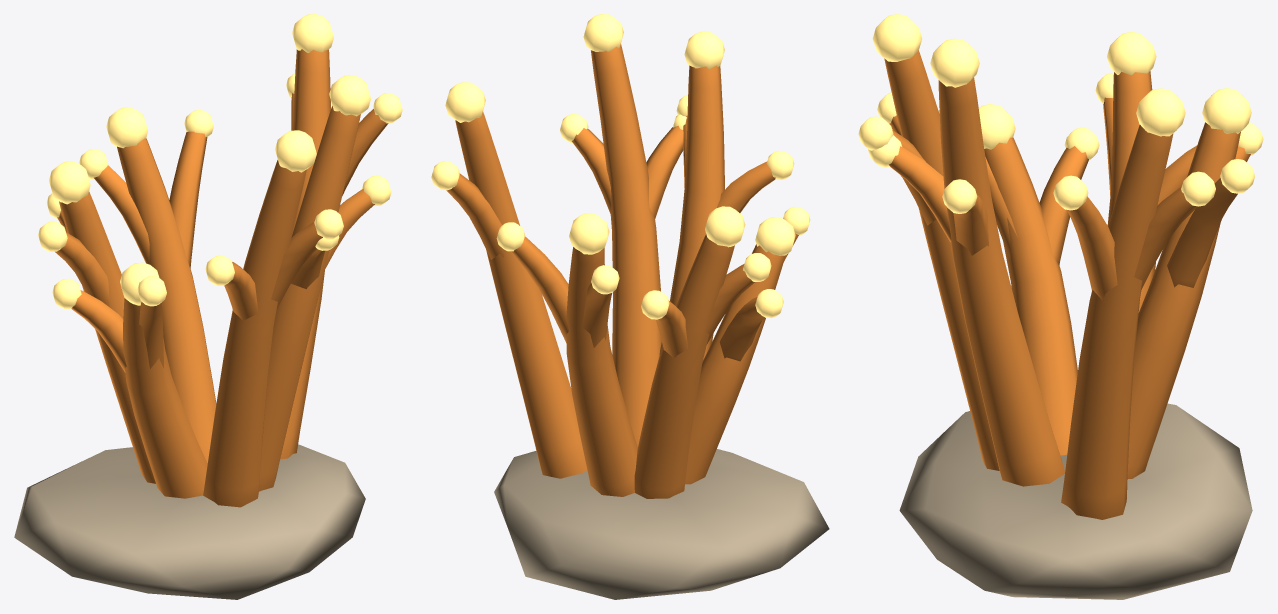
The model's file is coral2.glb.
3 views of the same model, side by side, from view 1: azimuth 30°, elevation 25°; view 2: azimuth 150°, elevation 25°; view 3: azimuth 270°, elevation 25° (orthographic). The views are drawn at different scales.
Visible parts, largest first — view 1: Coral; view 2: Coral; view 3: Coral.
Boxes of the visible parts, <box> form: Coral: <box>14,14,402,599</box>; Coral: <box>431,14,829,599</box>; Coral: <box>858,14,1263,599</box>.
Size of the model in its own units: 1.63 by 2.19 by 1.39.
